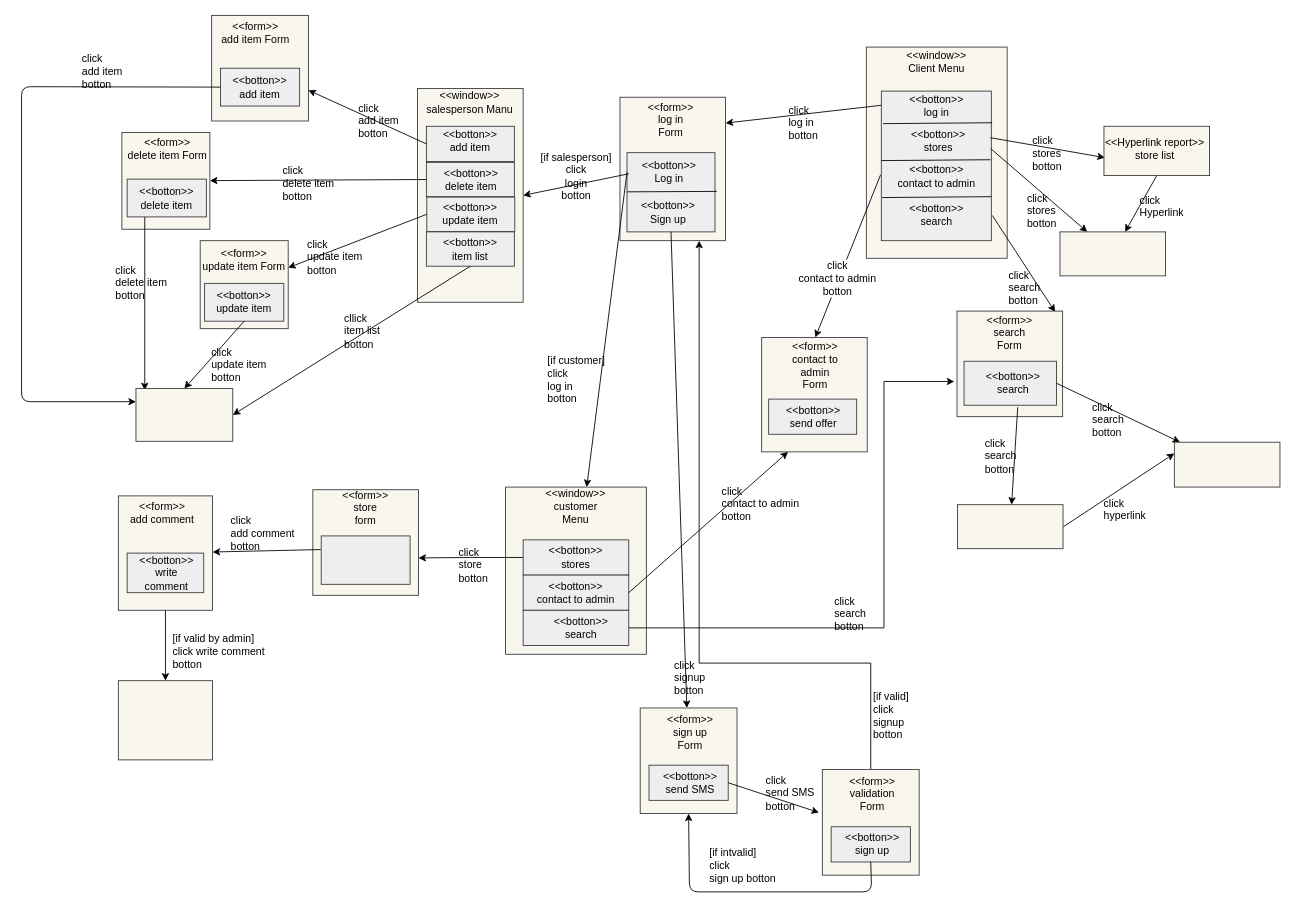
Some shapes in this 1295 by 914 pixel diagram are drawn without their labels. The shapes that lost their labels are listed below. From the top down, each one's centre as x and y in pixels, then its label:
pixel 1112 253: <<report>> store information report
pixel 184 414: <<report>> item list Report
pixel 1226 464: <<report>> search information report
pixel 1010 526: <<Hyperlink report>> search list
pixel 365 559: <<botton>> add comment
pixel 165 720: <<report>> view comment Report
